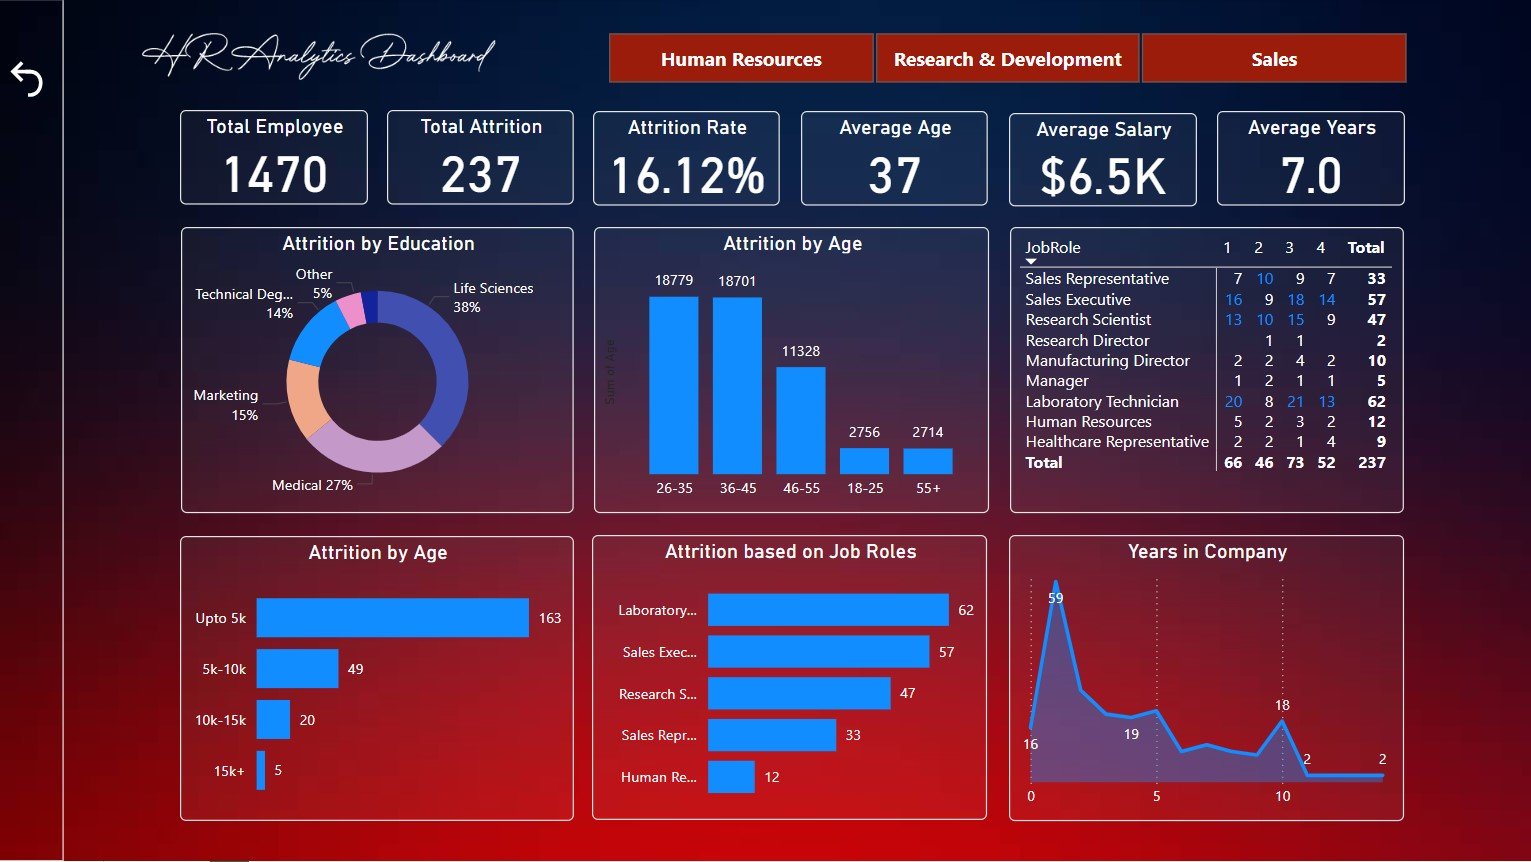

This screenshot's page, from the dashboard's own definition file:
{"tool":"powerbi","page":{"name":"HR Attrition","canvas":[1280,720],"ordinal":1},"visuals":[{"type":"card","title":"Total Employee","fields":{"Values":["All Measures.Total Employees"]},"box":[151.8,93.1,156.9,78.9],"z":0},{"type":"card","title":"Total Attrition","fields":{"Values":["All Measures.Total Attrition"]},"box":[324.7,93.1,156.1,78.9],"z":1000},{"type":"card","title":"Attrition Rate","fields":{"Values":["All Measures.Attrition Rate"]},"box":[496.7,94,156.1,78.9],"z":2000},{"type":"card","title":"Average Age","fields":{"Values":["All Measures.Employee Average Age"]},"box":[670.5,94,156.1,78.9],"z":3000},{"type":"card","title":"Average Salary","fields":{"Values":["All Measures.Average Salary Employee Monthly"]},"box":[844.3,94.8,156.9,78],"z":4000},{"type":"card","title":"Average Years","fields":{"Values":["All Measures.Average Years"]},"box":[1018.1,94,156.9,78.9],"z":5000},{"type":"donutChart","title":"Attrition by Education","fields":{"Category":["HR_Analytics.EducationField"],"Y":["All Measures.Total Attrition"]},"box":[153.3,190.1,328.2,239.4],"z":6000},{"type":"clusteredColumnChart","title":"Attrition by Age","fields":{"Category":["HR_Analytics.AgeGroup"],"Y":["Sum(HR_Analytics.Age)"]},"box":[497.5,190.1,330.2,239.4],"z":7000},{"type":"pivotTable","title":"Attrition by Age","fields":{"Rows":["HR_Analytics.JobRole"],"Columns":["HR_Analytics.JobSatisfaction"],"Values":["All Measures.Total Attrition"]},"box":[845.6,190.1,329.2,239.4],"z":8000},{"type":"clusteredBarChart","title":"Attrition by Age","fields":{"Category":["HR_Analytics.SalarySlab"],"Y":["All Measures.Total Attrition"]},"box":[152.3,448.5,329.2,238.4],"z":9000},{"type":"clusteredBarChart","title":"Attrition based on Job Roles","fields":{"Y":["All Measures.Total Attrition"],"Category":["HR_Analytics.JobRole"]},"box":[496.5,447.5,330.2,238.4],"z":10000},{"type":"areaChart","title":"Years in Company","fields":{"Category":["HR_Analytics.YearsAtCompany"],"Y":["All Measures.Total Attrition"]},"box":[844.6,447.5,330.2,239.4],"z":11000},{"type":"shape","box":[0,0,54.9,720.3],"z":12000},{"type":"slicer","fields":{"Values":["HR_Analytics.Department"]},"box":[489.1,26.4,711.1,45.2],"z":13000},{"type":"actionButton","box":[4.4,47,44.3,39.9],"z":14000},{"type":"image","box":[54.6,23.2,426.3,48.8],"z":15000}]}

Visuals, with their boxes in screenshot pixels (x1, y1, x2, y2), scaled from the page's 1280x720 canvas onto the 1531x862 screenshot:
"Total Employee" card: (x1=182, y1=111, x2=369, y2=206)
"Total Attrition" card: (x1=388, y1=111, x2=575, y2=206)
"Attrition Rate" card: (x1=594, y1=113, x2=781, y2=207)
"Average Age" card: (x1=802, y1=113, x2=989, y2=207)
"Average Salary" card: (x1=1010, y1=113, x2=1198, y2=207)
"Average Years" card: (x1=1218, y1=113, x2=1405, y2=207)
"Attrition by Education" donutChart: (x1=183, y1=228, x2=576, y2=514)
"Attrition by Age" clusteredColumnChart: (x1=595, y1=228, x2=990, y2=514)
"Attrition by Age" pivotTable: (x1=1011, y1=228, x2=1405, y2=514)
"Attrition by Age" clusteredBarChart: (x1=182, y1=537, x2=576, y2=822)
"Attrition based on Job Roles" clusteredBarChart: (x1=594, y1=536, x2=989, y2=821)
"Years in Company" areaChart: (x1=1010, y1=536, x2=1405, y2=822)
shape: (x1=0, y1=0, x2=66, y2=861)
slicer - HR_Analytics.Department: (x1=585, y1=32, x2=1436, y2=86)
actionButton: (x1=5, y1=56, x2=58, y2=104)
image: (x1=65, y1=28, x2=575, y2=86)
